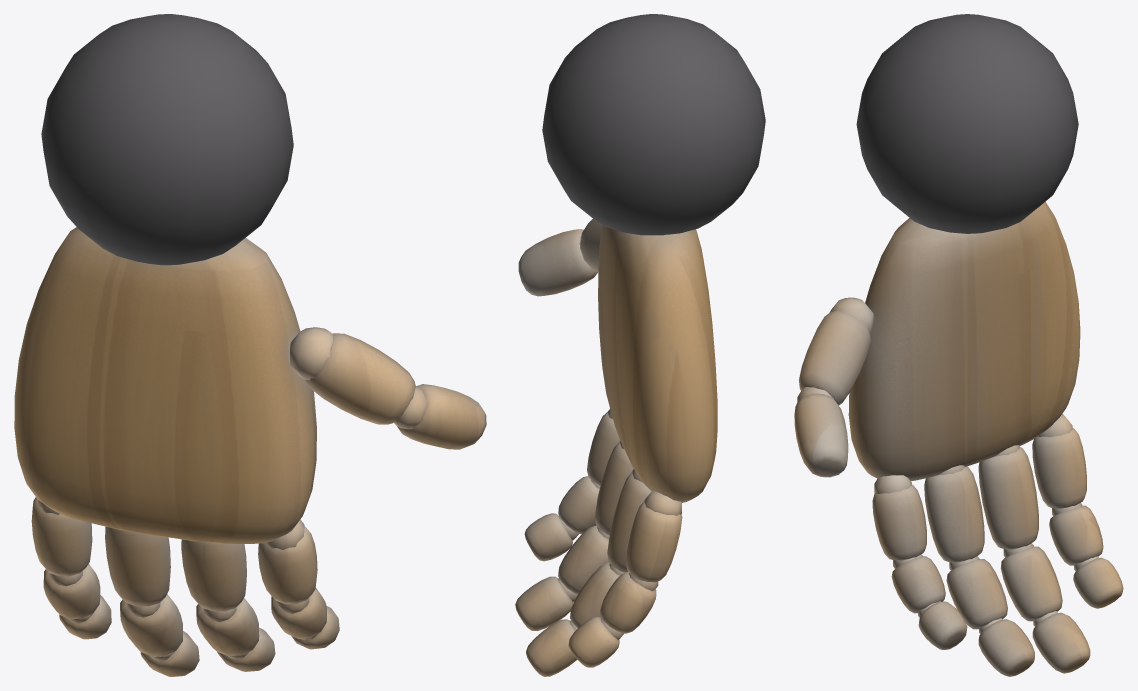
The model's file is Hand_R.glb.
3 views of the same model, side by side, from view 1: azimuth 30°, elevation 25°; view 2: azimuth 150°, elevation 25°; view 3: azimuth 270°, elevation 25° (orthographic). The views are drawn at different scales.
Visible parts, largest first — view 1: Hand_R, Hand_R_Ball; view 2: Hand_R, Hand_R_Ball; view 3: Hand_R, Hand_R_Ball.
Part boxes in pixels (box(x1,y1,x2,y2)): Hand_R: box(14, 227, 486, 676); Hand_R_Ball: box(41, 14, 293, 265); Hand_R: box(515, 219, 717, 676); Hand_R_Ball: box(542, 14, 765, 235); Hand_R: box(794, 201, 1123, 676); Hand_R_Ball: box(856, 14, 1078, 233).
Bounding box in the file's own units: 0.112 × 0.2219 × 0.1066.
Materials: 2 (1 with a texture image).
